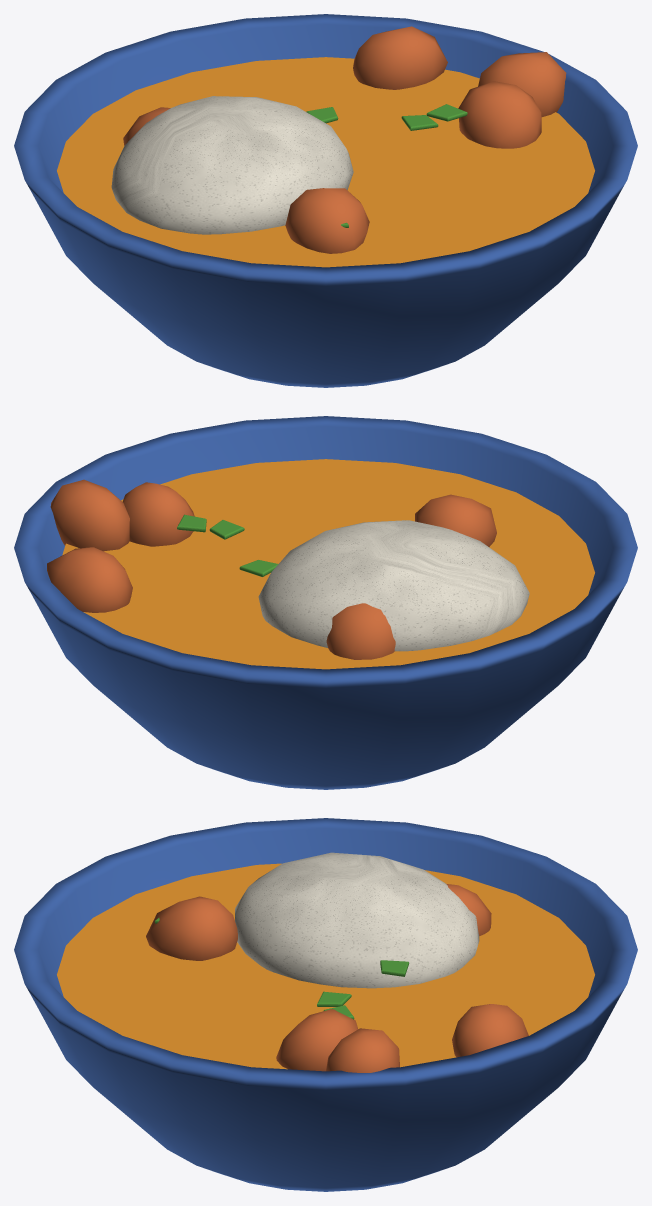
File: curry.glb
3 renders of one model, top to bottom at view 1: azimuth 30°, elevation 25°; view 2: azimuth 150°, elevation 25°; view 3: azimuth 270°, elevation 25°, orthographic.
Visible parts, largest first — view 1: curry; view 2: curry; view 3: curry.
Part boxes in pixels (<box>): curry: <box>14,14,637,387</box>; curry: <box>14,416,637,789</box>; curry: <box>14,818,637,1191</box>.
Bounding box in the file's own units: 0.204 × 0.0776 × 0.204.
5 materials, 1 textured.
